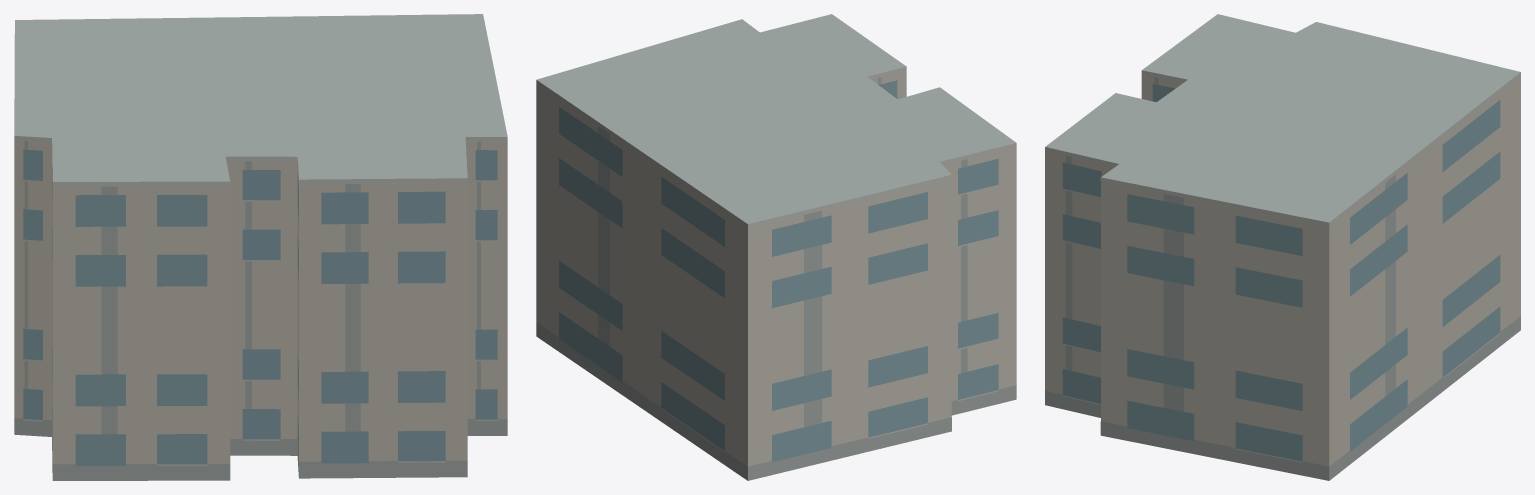
File: survey-upis-32602859.glb
3 renders of one model, left to right at view 1: azimuth 30°, elevation 25°; view 2: azimuth 150°, elevation 25°; view 3: azimuth 270°, elevation 25°, orthographic. The views are drawn at different scales.
Visible parts, largest first — view 1: survey-upis-32602859.tmp; view 2: survey-upis-32602859.tmp; view 3: survey-upis-32602859.tmp.
Boxes of the visible parts, x1,y1,x2,y2 form: survey-upis-32602859.tmp: (14, 14, 507, 480); survey-upis-32602859.tmp: (536, 14, 1016, 480); survey-upis-32602859.tmp: (1045, 14, 1520, 480).
Size of the model in its own units: 26.43 by 15.25 by 25.47.
